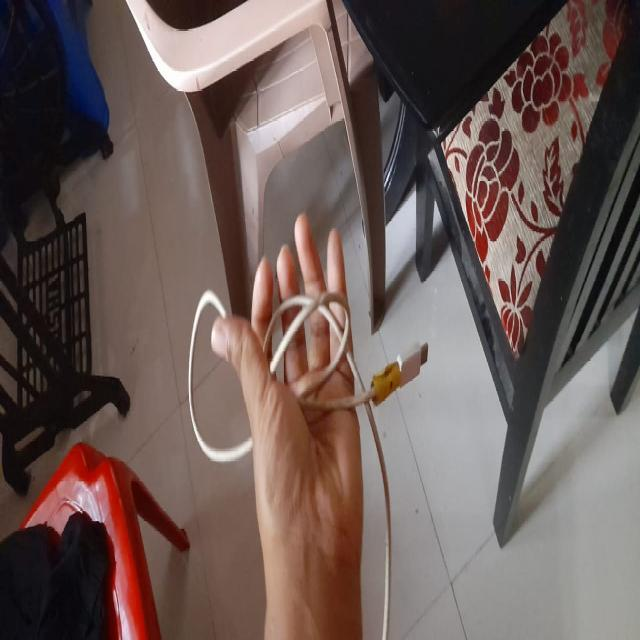Charger - Recyclable: (182, 277, 442, 640)
